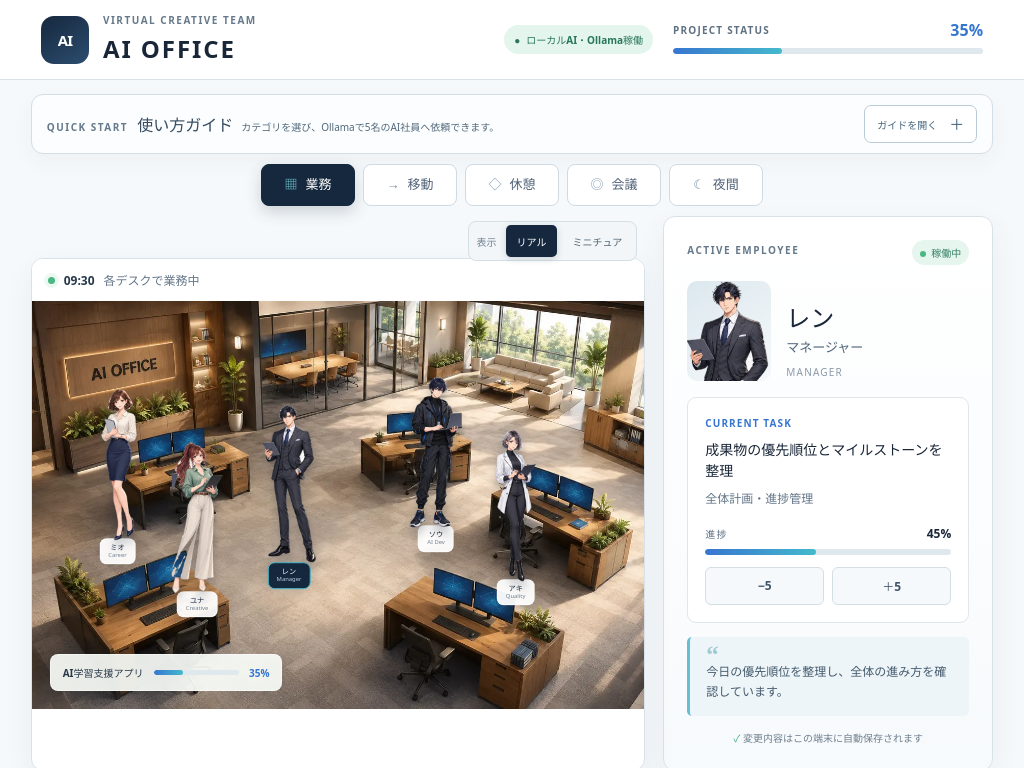
Test: AI OFFICE › switches all modes and updates the dialogue
This screenshot has width=1024, height=768.
Click the button "→移動". click: click(410, 185)
box: [363,164,457,206]
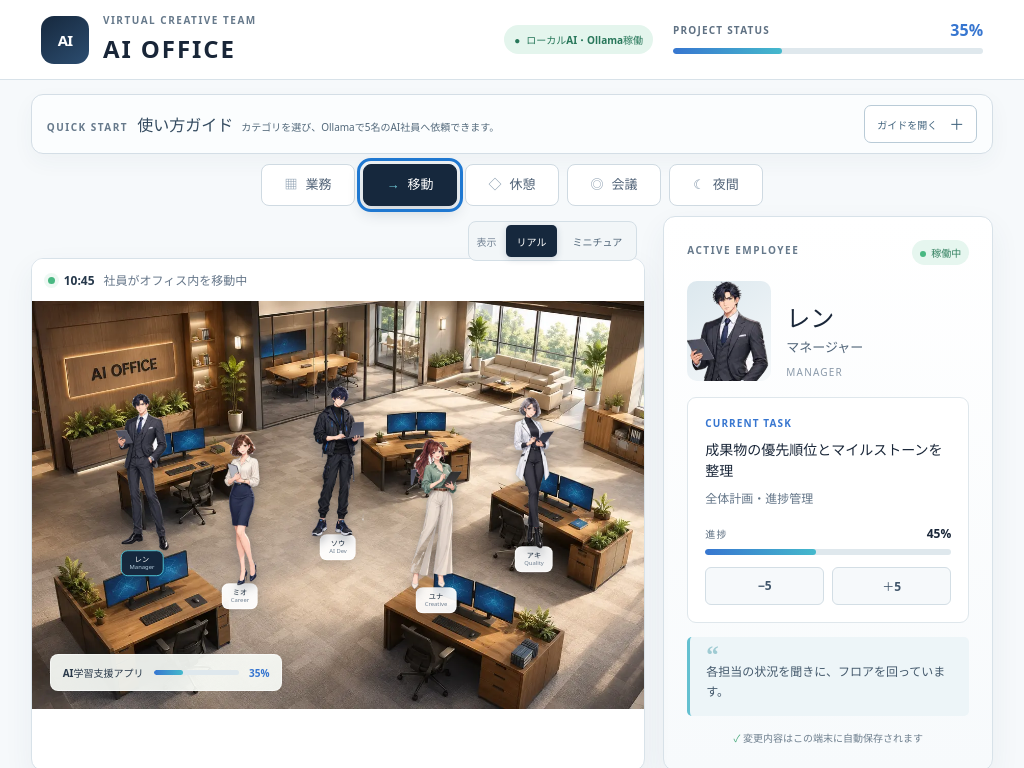
Expected: the text "社員がオフィス内を移動中" is shown, [104,271,247,289]
Click the button "◇休憩". click: click(512, 185)
box: [465,164,559,206]
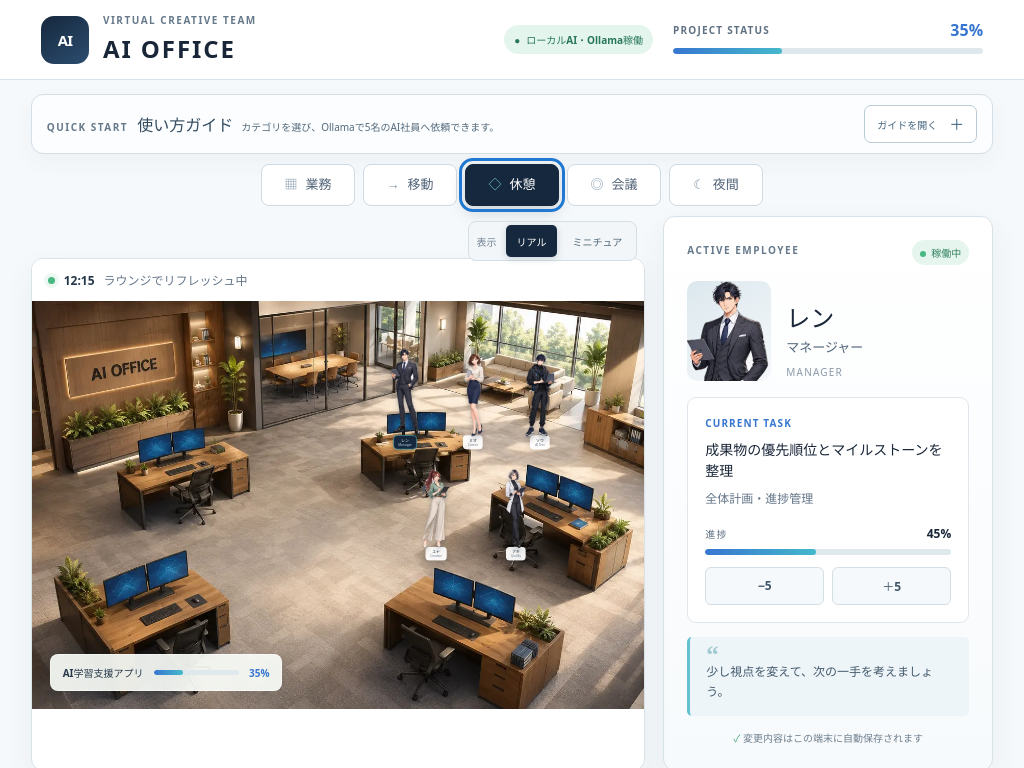
Expected: the text "ラウンジでリフレッシュ中" is shown, [104,271,248,289]
Click the button "◎会議". click: click(614, 185)
box: [567,164,661,206]
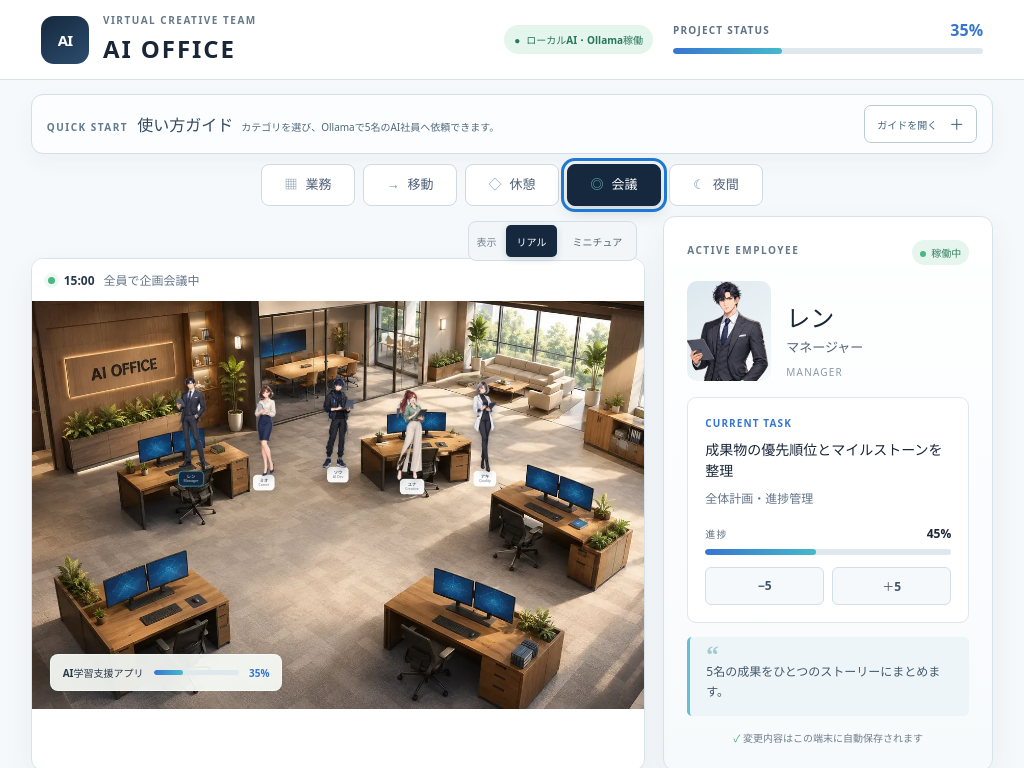
Expected: the text "全員で企画会議中" is shown, [104,271,200,289]
Click the button "☾夜間". click: click(716, 185)
box: [669,164,763,206]
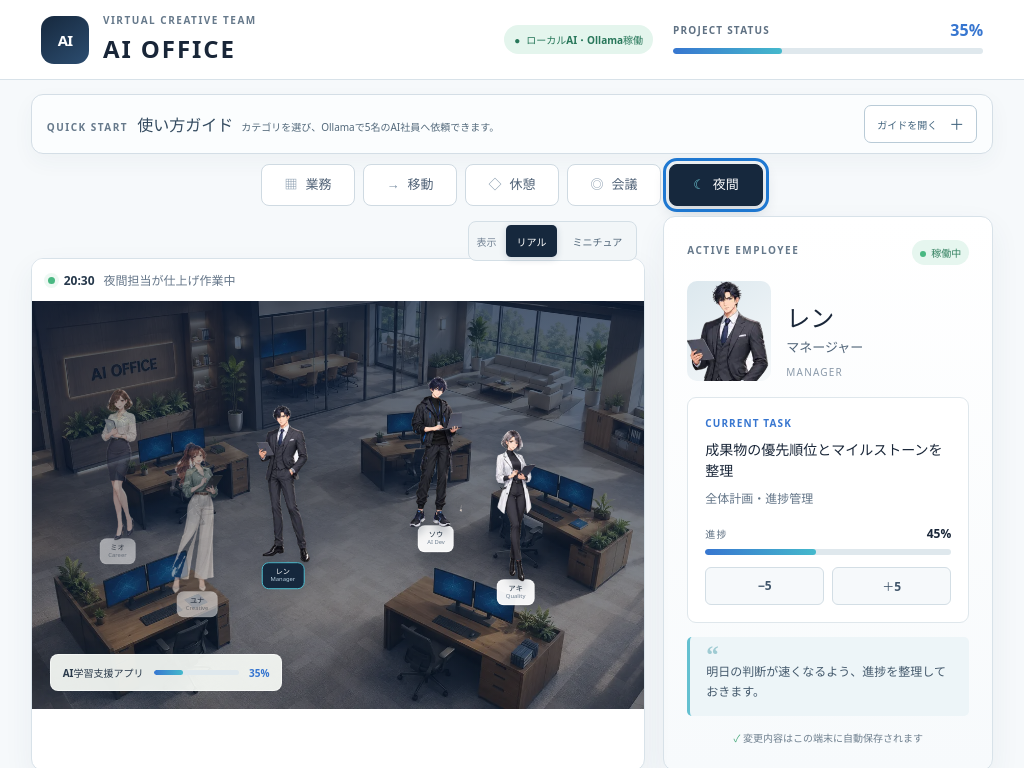
Expected: the text "夜間担当が仕上げ作業中" is shown, [104,271,236,289]
Expected: the text "明日の判断が速くなるよう、進捗を整理しておきます。" is shown, [706,662,953,702]
